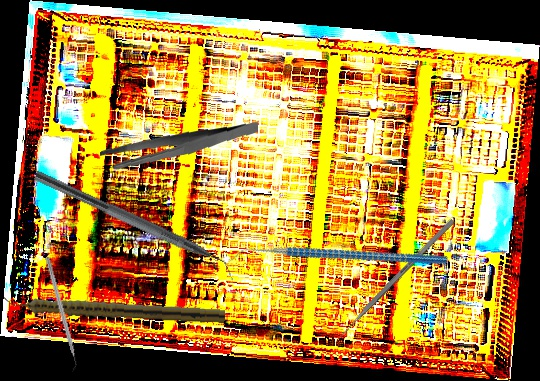Chopper: (227, 180, 449, 338), (27, 169, 242, 286), (39, 256, 80, 373)
Dressing Forceps: (99, 112, 259, 178)
Handpiece: (3, 293, 226, 324)
Pusher: (331, 218, 455, 346)
